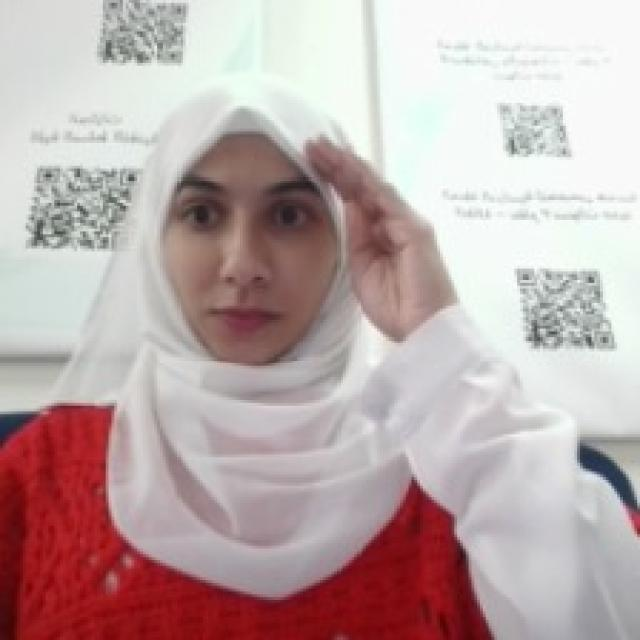Thanks: (294, 126, 452, 334)
